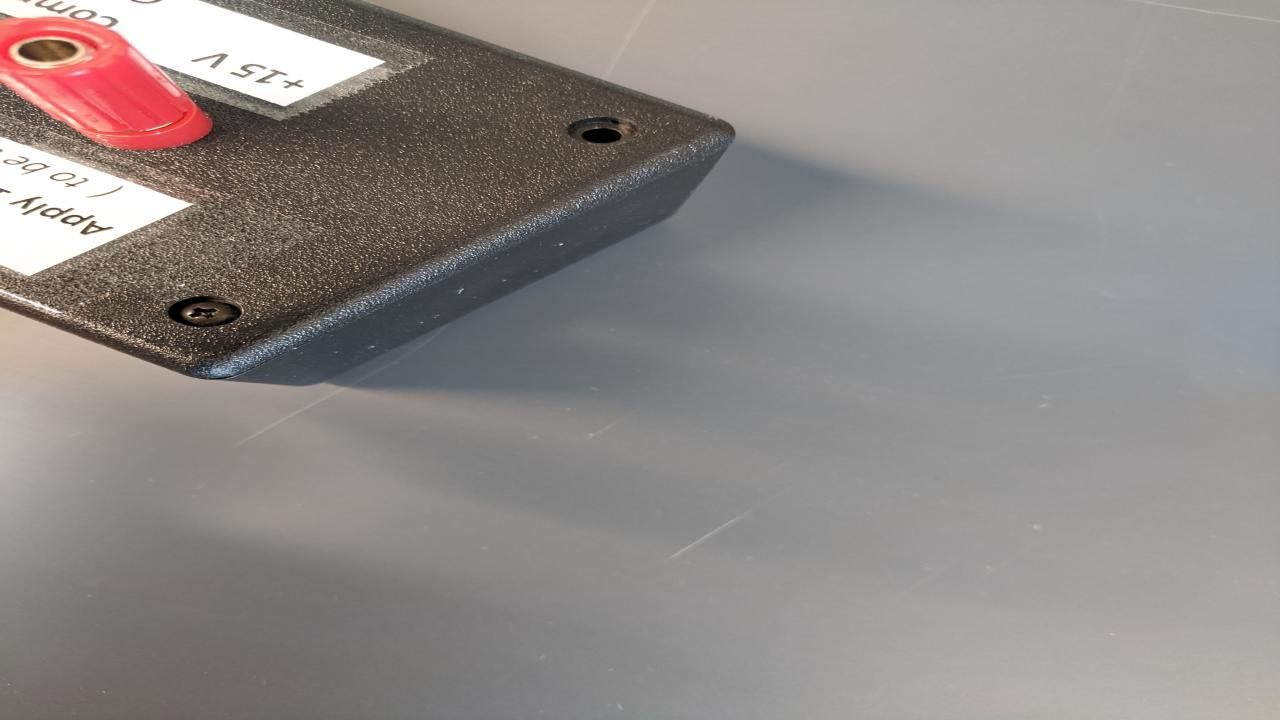CRS: (176, 298, 234, 324)
